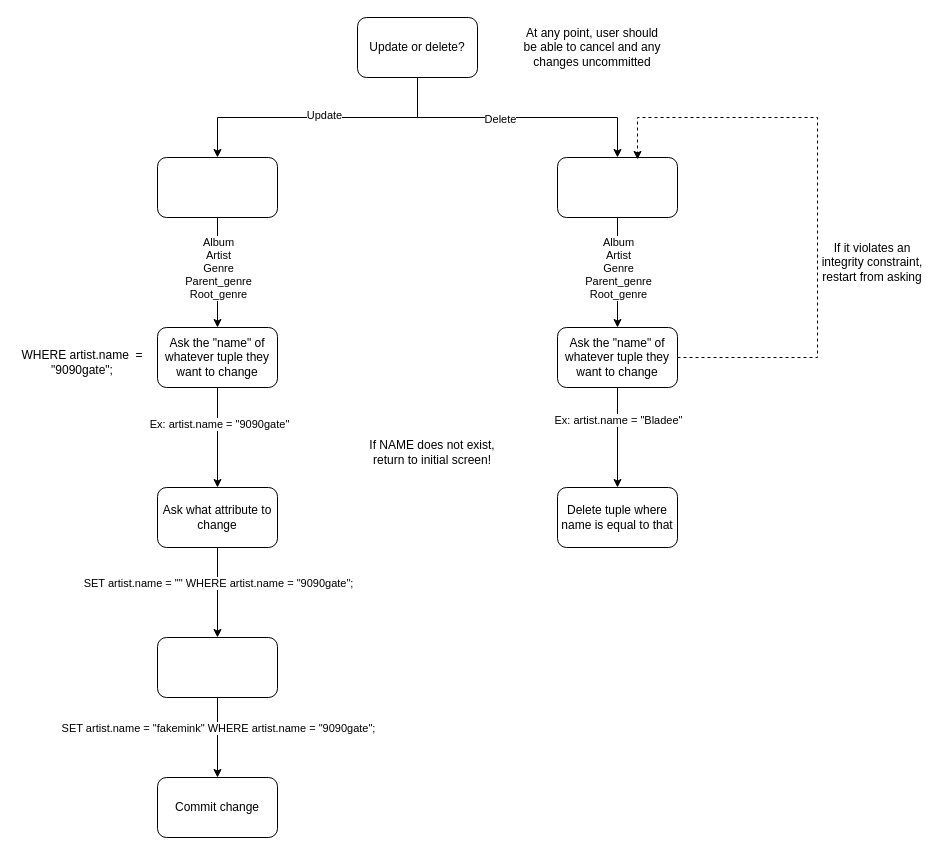
The diagram is 944 pixels wide and 855 high, and some of its shapes have lost their labels. The box of each missing label's shape, as (x1, y1, x2, y2) in pixels:
Ask the change they want to make: (156, 636, 278, 698)
Ask what to delete: (556, 156, 678, 218)
Ask what to update: (156, 156, 278, 218)
